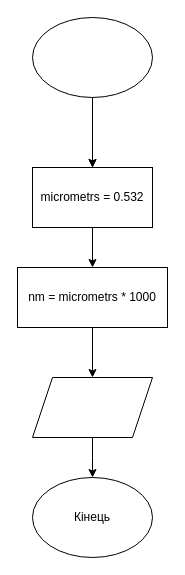
Image size: 185x575. Some labels were removed from this diagram. Here are the shapes that lost their labels. From the top down, the centre of each, then its label:
point 92,57: Початок
point 92,407: Вивести nm
